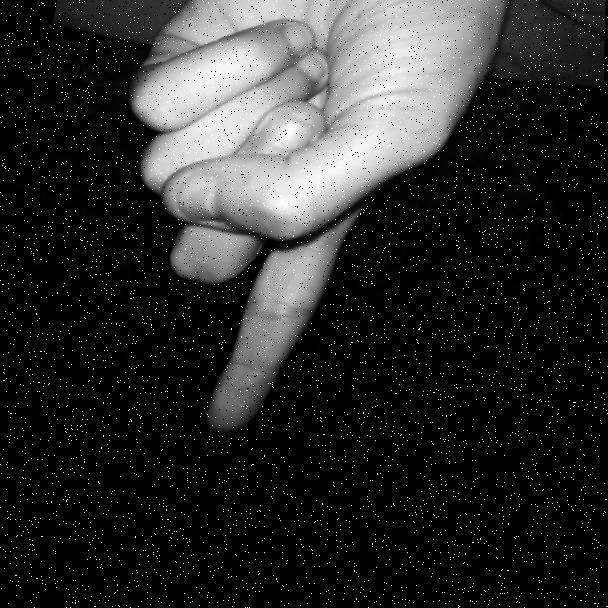one: (45, 0, 484, 498)
